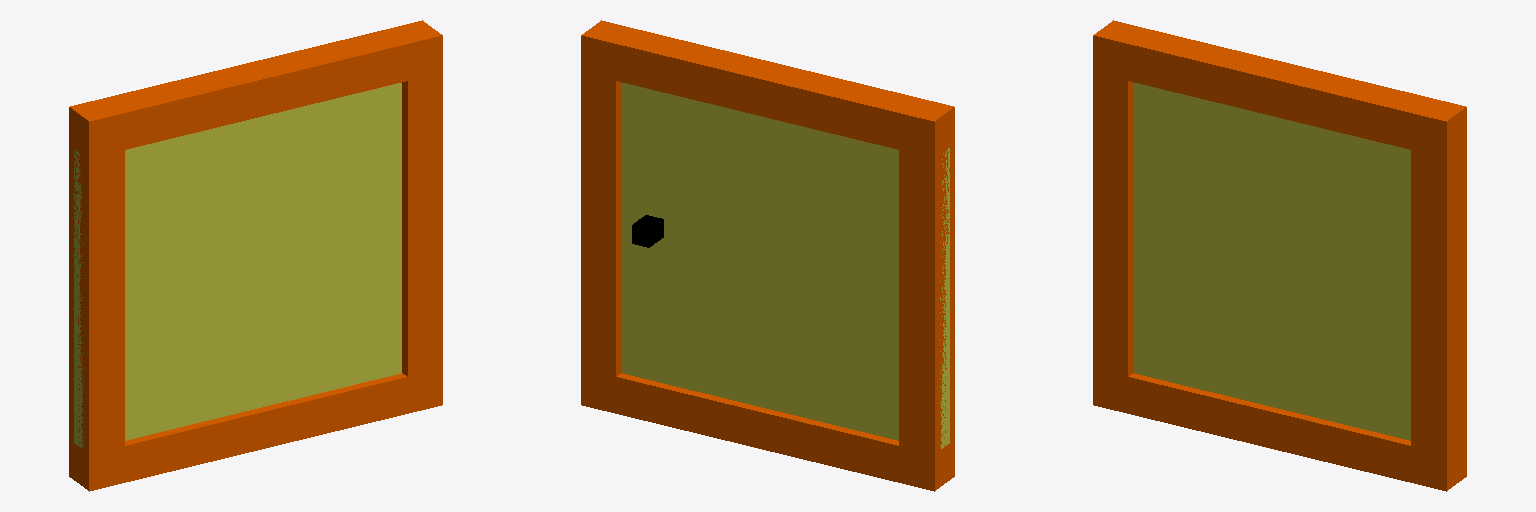
The robot description file, URDF, robot "urdf_door":
<?xml version="1.0" ?>
<robot name="urdf_door">
 <link name="world"/>
  <joint name="fixed" type="fixed">
    <parent link="world"/>
    <child link="baseLink"/>
    <origin xyz="0 0 0"/>
  </joint>

  <link name="baseLink">
    <inertial>
      <origin rpy="0 0 0" xyz="0 0 0.35"/>
       <mass value="1.0"/>
       <inertia ixx="0.1" ixy="0" ixz="0" iyy="0.1" iyz="0" izz="0.1"/>
    </inertial>
    <visual>
      <origin rpy="0 0 0" xyz="0.05 0 0.5"/>
      <geometry>
      <box size="0.1 0.1 1"/>
      </geometry>
	   <material name="framemat0">
      <color
                    rgba="0.9 0.4 0. 1" />
      </material>
    </visual>
    <visual>
      <origin rpy="0 0 0" xyz="0.95 0 0.5"/>
      <geometry>
        <box size="0.1 0.1 1"/>
      </geometry>
	  <material name="framemat0"/>
    </visual>
    <visual>
      <origin rpy="0 0 0" xyz="0.5 0 0.95"/>
      <geometry>
        <box size="1 0.1 0.1"/>
      </geometry>
	  <material name="framemat0"/>
	  </visual>
    <visual>
      <origin rpy="0 0 0" xyz="0.5 0 0.05"/>
      <geometry>
        <box size="1 0.1 0.1"/>
      </geometry>
	  <material name="framemat0"/>
	  </visual>
    <collision>
      <origin rpy="0 0 0" xyz="0.05 0 0.5"/>
      <geometry>
        <box size="0.1 0.1 1"/>
      </geometry>
    </collision>
    <collision>
      <origin rpy="0 0 0" xyz="0.95 0 0.5"/>
      <geometry>
        <box size="0.1 0.1 1"/>
      </geometry>
    </collision>
    <collision>
      <origin rpy="0 0 0" xyz="0.5 0 0.95"/>
      <geometry>
        <box size="1 0.1 0.1"/>
      </geometry>
    </collision>
    <collision>
      <origin rpy="0 0 0" xyz="0.5 0 0.05"/>
      <geometry>
        <box size="1 0.1 0.1"/>
      </geometry>
    </collision>

  </link>
   <link name="childA">
    <inertial>
      <origin rpy="0 0 0" xyz="0.4 0 0.4"/>
      <mass value="1.0"/>
      <inertia ixx="0.048966669" ixy="0" ixz="0" iyy="0.046466667" iyz="0" izz="0.0041666669"/>
    </inertial>
    <visual>
      <origin rpy="0 0 0" xyz="0.4 0 0.4"/>
      <geometry>
        <box size="0.9  0.05 0.8"/>
      </geometry>
	   <material name="doormat0">
      <color rgba="0.8 0.8 0.3 1" />
      </material>
	  </visual>
     <collision>
       <origin rpy="0 0 0" xyz="0.4 0 0.4"/>
       <geometry>
         <box size="0.9  0.05 0.8"/>
       </geometry>
     </collision>
   </link>

   <joint name="joint_baseLink_childA" type="continuous">
    <parent link="baseLink"/>
    <child link="childA"/>
	<dynamics damping="1.0" friction="0.0001"/>
    <origin xyz="0.05 0 0.1"/>
		<axis xyz="0 0 1"/>
  </joint>

     <link name="door_knob">
  <contact>
      <lateral_friction value="1"/>
  </contact>
    <inertial>
      <origin rpy="0 0 0" xyz="0 0 0"/>
       <mass value=".0"/>
       <inertia ixx="0" ixy="0" ixz="0" iyy="0" iyz="0" izz="0"/>
    </inertial>
    <visual>
      <origin xyz="0 0 0" rpy="0 0 0" />
      <geometry>
        <box size="0.05 0.07 0.05" />
      </geometry>
      <material name="desert sand">
        <color rgba="0 0 0 1" />
      </material>
    </visual>
    <collision>
      <origin xyz="0 0 0" rpy="0 0 0" />
      <geometry>
        <box size="0.07 0.05 0.05" />
      </geometry>
    </collision>
  </link>

  <joint name="knob_door" type="fixed">
    <parent link="childA"/>
    <child link="door_knob"/>
    	<dynamics damping="1.0" friction="0.0001"/>
        <origin xyz="0.75 0.07 0.425"/>
    </joint>
</robot>

--- What the picture shows (computed from the rendered views, not written in the file) ---
Views: 3 orthographic renders of the robot side by side, from view 1: azimuth 30°, elevation 25°; view 2: azimuth 150°, elevation 25°; view 3: azimuth 330°, elevation 25°.
Robot: urdf_door — 4 links, 3 joints (1 continuous, 2 fixed); root link world; default pose: all joints at 0.
Visible links, largest first — view 1: childA, baseLink; view 2: childA, baseLink, door_knob; view 3: childA, baseLink.
Boxes of the visible links, x1,y1,x2,y2 form: childA: [74, 83, 401, 448]; baseLink: [69, 20, 442, 491]; childA: [622, 83, 949, 448]; baseLink: [581, 20, 954, 491]; door_knob: [632, 215, 663, 247]; childA: [1134, 83, 1410, 440]; baseLink: [1093, 20, 1466, 491].
Bounding box of the posed robot: 1 × 0.155 × 1 m (x, y, z).
Geometry: primitives only (box / cylinder / sphere), no mesh files.